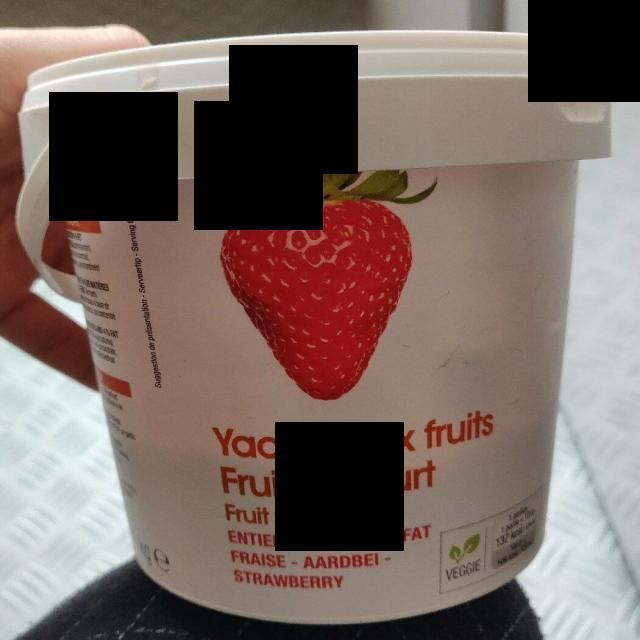yoghurt: (17, 29, 613, 621)
